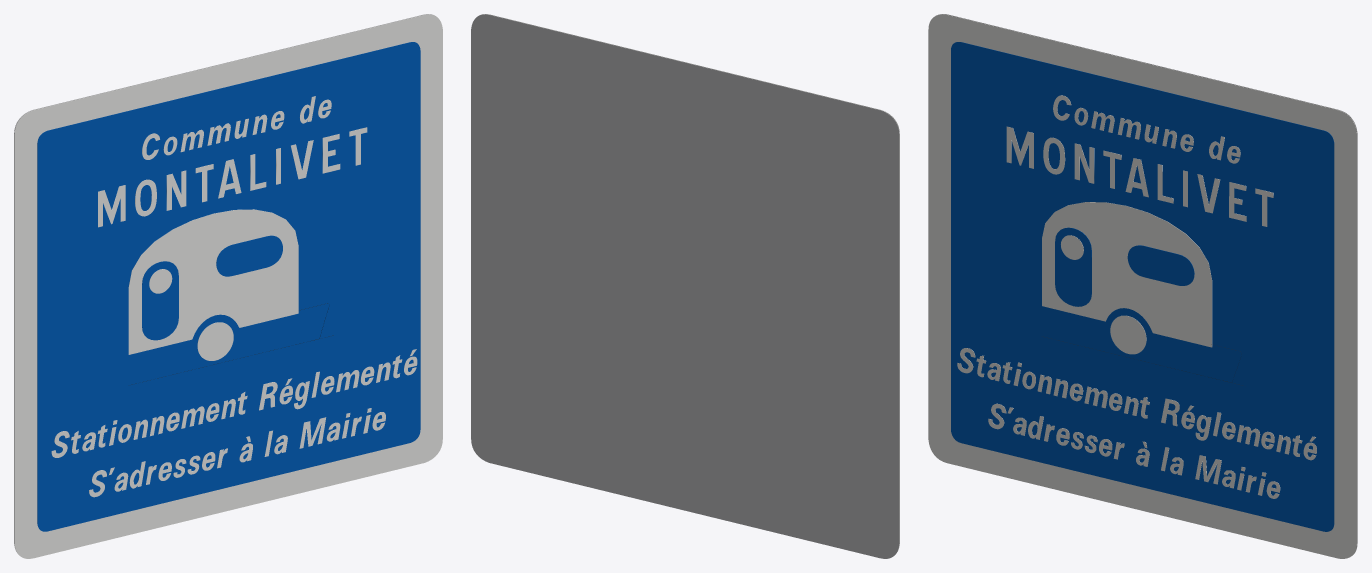
3 renders of one model, left to right at view 1: azimuth 30°, elevation 25°; view 2: azimuth 150°, elevation 25°; view 3: azimuth 330°, elevation 25°, orthographic.
Visible parts, largest first — view 1: C23_p01, C23_p00, C23_p02, C23_p03, C23_p09, C23_p04, C23_dos, C23_p19, C23_p21; view 2: C23_dos, C23_p00; view 3: C23_p01, C23_p00, C23_p02, C23_p03, C23_p09, C23_p04, C23_dos, C23_p19, C23_p21.
Boxes of the visible parts, x1,y1,x2,y2 form: C23_p01: [37, 42, 420, 531]; C23_p00: [14, 14, 442, 558]; C23_p02: [128, 209, 298, 354]; C23_p03: [142, 261, 178, 340]; C23_p09: [216, 235, 282, 276]; C23_p04: [197, 322, 233, 360]; C23_dos: [14, 14, 432, 553]; C23_p19: [98, 185, 125, 227]; C23_p21: [166, 170, 186, 210]; C23_dos: [471, 14, 899, 558]; C23_p00: [481, 14, 899, 553]; C23_p01: [951, 42, 1334, 531]; C23_p00: [928, 14, 1356, 558]; C23_p02: [1042, 202, 1212, 347]; C23_p03: [1055, 227, 1091, 306]; C23_p09: [1127, 245, 1194, 285]; C23_p04: [1110, 315, 1146, 354]; C23_dos: [936, 14, 1357, 553]; C23_p19: [1006, 126, 1033, 168]; C23_p21: [1074, 143, 1094, 183].
Bounding box in the file's own units: 0.7 × 0.6999 × 0.0299.
